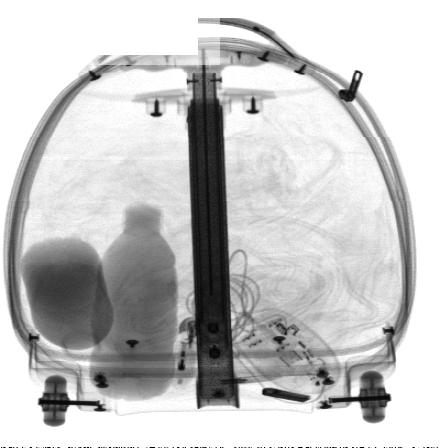Lighter: (171, 316, 201, 386)
